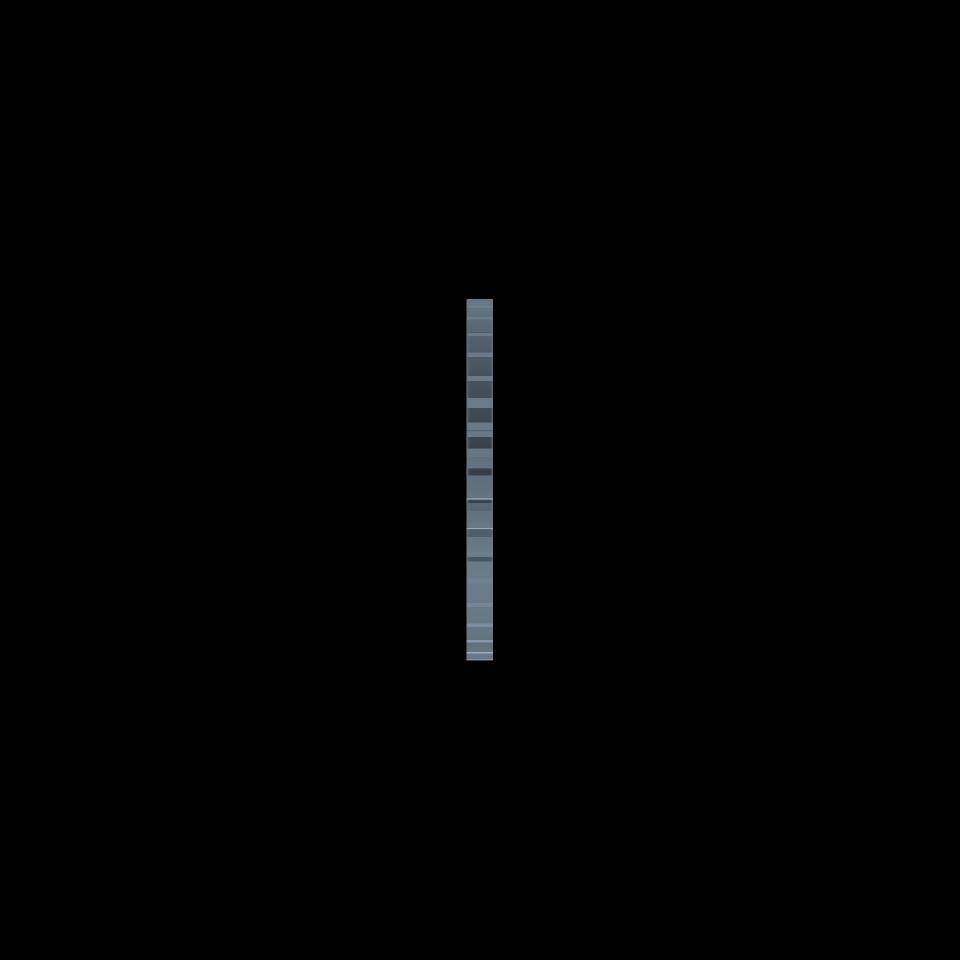Straight: (467, 298, 493, 658)
